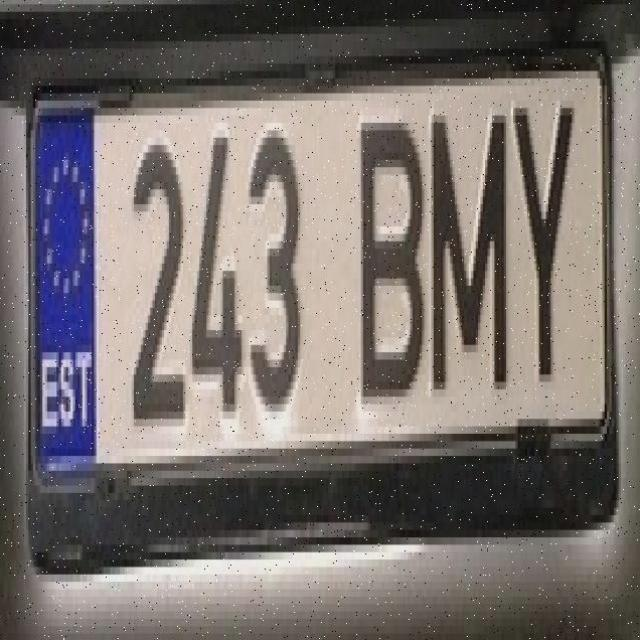license-plate: (7, 0, 631, 483)
